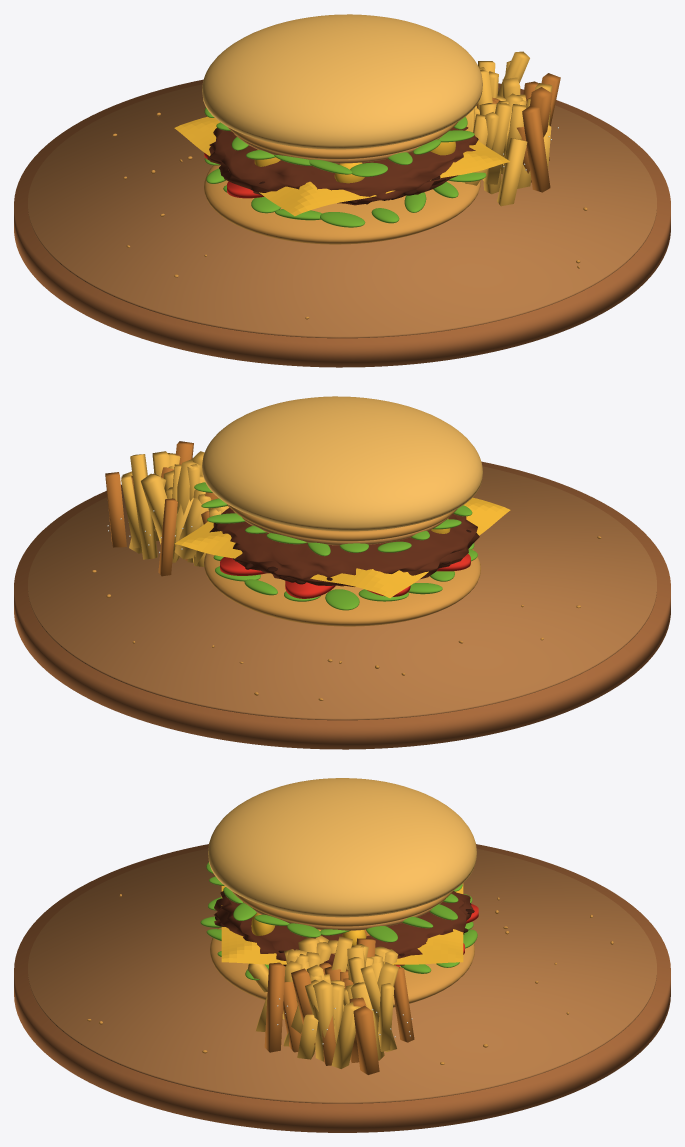
The model's file is burger.glb.
The picture shows the model from 3 angles, top to bottom: view 1: azimuth 30°, elevation 25°; view 2: azimuth 150°, elevation 25°; view 3: azimuth 270°, elevation 25°; orthographic projection.
Parts seen in each view (by area): view 1: Wooden Board Top, Large Sesame Burger Top Bun, Round Wooden Serving Board, Bottom Burger Bun, Large Grilled Beef Patty, Melted Cheddar Cheese, Toasted Bun Lower Edge, French Fry 105, French Fry 111, French Fry 027, Visible Burger Sauce, French Fry 020 (+2 smaller); view 2: Wooden Board Top, Large Sesame Burger Top Bun, Round Wooden Serving Board, Large Grilled Beef Patty, Bottom Burger Bun, Melted Cheddar Cheese, Toasted Bun Lower Edge, French Fry 023, French Fry 015, French Fry 025, French Fry 016, French Fry 008 (+5 smaller); view 3: Wooden Board Top, Large Sesame Burger Top Bun, Round Wooden Serving Board, Large Grilled Beef Patty, Bottom Burger Bun, Melted Cheddar Cheese, Toasted Bun Lower Edge, French Fry 105, French Fry 015, French Fry 038, French Fry 012, French Fry 025 (+6 smaller).
Part boxes in pixels (bbox=[...]): Wooden Board Top: bbox=[28, 84, 656, 338]; Large Sesame Burger Top Bun: bbox=[202, 14, 482, 149]; Round Wooden Serving Board: bbox=[14, 79, 670, 367]; Bottom Burger Bun: bbox=[204, 165, 480, 244]; Large Grilled Beef Patty: bbox=[207, 127, 478, 205]; Melted Cheddar Cheese: bbox=[174, 116, 510, 216]; Toasted Bun Lower Edge: bbox=[227, 122, 457, 159]; French Fry 105: bbox=[522, 106, 550, 192]; French Fry 111: bbox=[497, 138, 527, 206]; French Fry 027: bbox=[482, 103, 511, 184]; Visible Burger Sauce: bbox=[234, 130, 450, 163]; French Fry 020: bbox=[530, 87, 552, 136]; Wooden Board Top: bbox=[28, 466, 656, 720]; Large Sesame Burger Top Bun: bbox=[202, 396, 482, 531]; Round Wooden Serving Board: bbox=[14, 461, 670, 749]; Large Grilled Beef Patty: bbox=[209, 506, 479, 586]; Bottom Burger Bun: bbox=[204, 549, 480, 626]; Melted Cheddar Cheese: bbox=[174, 497, 510, 598]; Toasted Bun Lower Edge: bbox=[227, 504, 457, 541]; French Fry 023: bbox=[130, 454, 157, 559]; French Fry 015: bbox=[105, 472, 126, 547]; French Fry 025: bbox=[158, 498, 177, 576]; French Fry 016: bbox=[141, 473, 179, 559]; French Fry 008: bbox=[121, 475, 141, 548]; Wooden Board Top: bbox=[28, 848, 656, 1103]; Large Sesame Burger Top Bun: bbox=[208, 778, 476, 917]; Round Wooden Serving Board: bbox=[14, 844, 670, 1132]; Large Grilled Beef Patty: bbox=[214, 891, 473, 966]; Bottom Burger Bun: bbox=[210, 927, 474, 1007]; Melted Cheddar Cheese: bbox=[221, 883, 463, 964]; Toasted Bun Lower Edge: bbox=[232, 891, 452, 926]; French Fry 105: bbox=[264, 962, 285, 1052]; French Fry 015: bbox=[353, 1005, 379, 1074]; French Fry 038: bbox=[313, 980, 334, 1061]; French Fry 012: bbox=[331, 1002, 360, 1068]; French Fry 025: bbox=[393, 967, 414, 1042].
Size of the model in its own units: 16.6 by 5.21 by 16.6.
